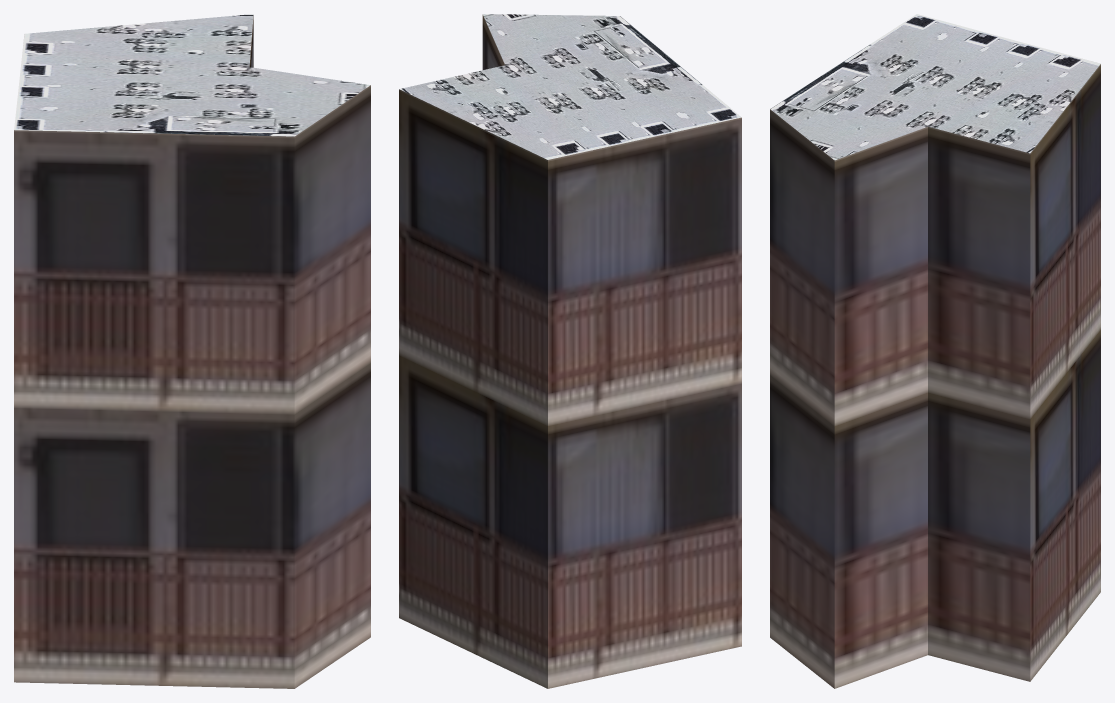
Rendered from ResTex__4431.fbx.
3 views of the same model, side by side, from view 1: azimuth 30°, elevation 25°; view 2: azimuth 150°, elevation 25°; view 3: azimuth 270°, elevation 25° (orthographic). The views are drawn at different scales.
Parts seen in each view (by area): view 1: CityEngineMaterial_6_m, CityEngineMaterial_m; view 2: CityEngineMaterial_6_m, CityEngineMaterial_m; view 3: CityEngineMaterial_6_m, CityEngineMaterial_m.
Boxes of the visible parts, x1,y1,x2,y2 form: CityEngineMaterial_6_m: [14, 15, 370, 688]; CityEngineMaterial_m: [14, 14, 370, 136]; CityEngineMaterial_6_m: [399, 15, 741, 688]; CityEngineMaterial_m: [399, 14, 741, 159]; CityEngineMaterial_6_m: [770, 64, 1100, 688]; CityEngineMaterial_m: [770, 14, 1100, 160].
Size of the model in its own units: 3.57 by 6 by 3.41.
2 materials, 2 textured.
